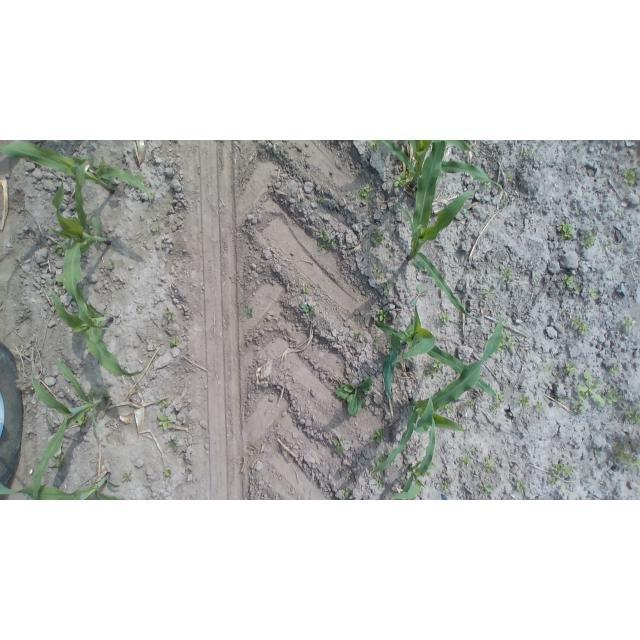Maize: (369, 308, 503, 474), (394, 141, 482, 319), (375, 302, 498, 399), (32, 356, 113, 501), (53, 162, 118, 330), (0, 141, 152, 203), (52, 290, 147, 378), (379, 141, 506, 204), (384, 418, 436, 500), (0, 472, 124, 500)
Weeds: (336, 377, 372, 419), (577, 369, 605, 407), (613, 437, 640, 469), (312, 229, 336, 254), (509, 472, 526, 500), (410, 283, 429, 307), (620, 165, 639, 187), (603, 389, 624, 408), (571, 316, 591, 335), (354, 183, 374, 201), (623, 403, 640, 424), (503, 331, 518, 353), (164, 435, 181, 453), (552, 463, 573, 477), (559, 221, 574, 240), (394, 170, 410, 187), (53, 238, 68, 256), (581, 231, 595, 250), (371, 227, 384, 246), (333, 440, 346, 459), (300, 301, 316, 316), (157, 414, 172, 430), (483, 455, 495, 474), (563, 360, 577, 376), (379, 280, 394, 294), (501, 267, 515, 282), (370, 428, 384, 443), (622, 316, 635, 332), (572, 400, 586, 414), (378, 309, 391, 324), (591, 441, 604, 456), (608, 362, 621, 377), (339, 487, 353, 500), (479, 482, 494, 494), (518, 395, 531, 408), (369, 141, 383, 152), (564, 274, 575, 288), (92, 157, 105, 168), (163, 308, 174, 321), (495, 389, 506, 402), (438, 313, 451, 324), (461, 455, 472, 468), (589, 287, 600, 300), (243, 305, 253, 319), (371, 267, 383, 278), (423, 368, 437, 377), (122, 471, 133, 482), (151, 225, 164, 234), (541, 364, 554, 373), (488, 403, 501, 411), (53, 460, 66, 468), (377, 454, 386, 465), (536, 401, 544, 413), (574, 283, 582, 295), (377, 477, 384, 490), (442, 482, 452, 491), (78, 417, 89, 425), (171, 338, 180, 347), (467, 444, 476, 453), (164, 470, 173, 479), (549, 477, 559, 485), (433, 360, 443, 368), (485, 289, 495, 297), (523, 150, 533, 158), (108, 259, 115, 270), (462, 208, 469, 219), (161, 400, 169, 409), (302, 283, 309, 293), (444, 404, 452, 412), (56, 278, 63, 286), (136, 384, 143, 392), (506, 176, 514, 183), (372, 336, 378, 345), (558, 397, 565, 404), (148, 192, 154, 200), (316, 196, 324, 202), (494, 348, 502, 354), (137, 173, 144, 179), (353, 333, 359, 340), (431, 462, 436, 470), (577, 495, 583, 500), (457, 318, 463, 323), (499, 203, 504, 209), (606, 242, 612, 247), (560, 485, 564, 492), (467, 401, 472, 406), (58, 453, 62, 459), (484, 181, 490, 185), (616, 211, 622, 215), (156, 399, 161, 403), (620, 244, 625, 248)
